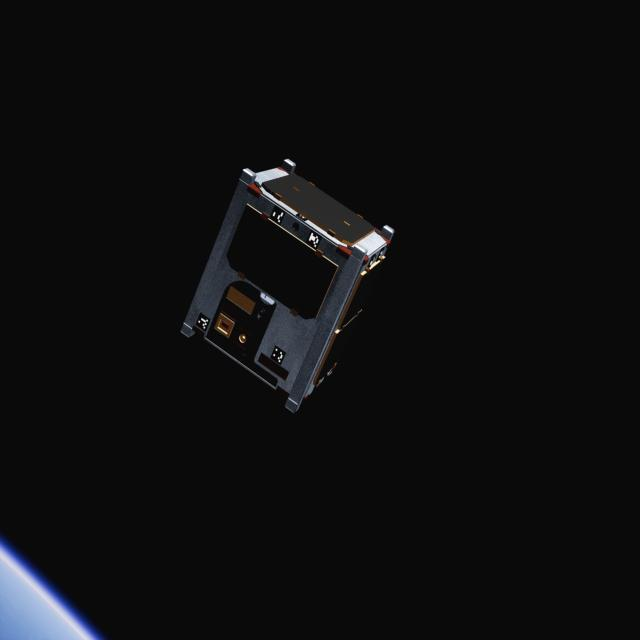medium_debris: (168, 150, 410, 422)
